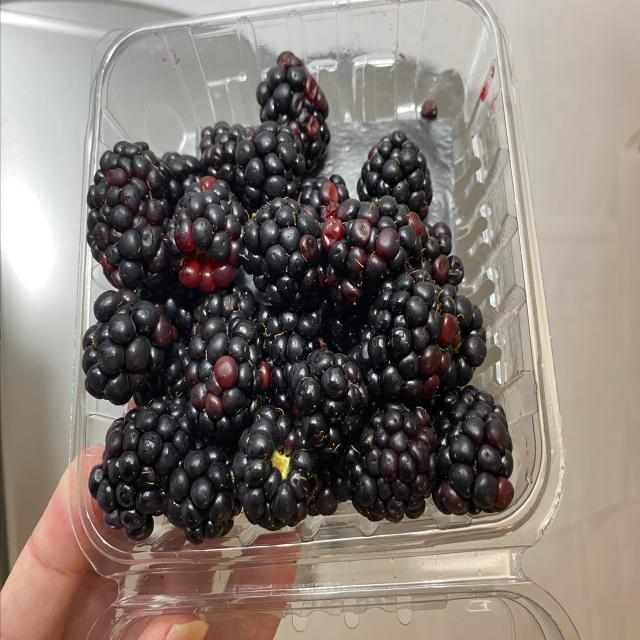blackberries: (85, 64, 517, 532)
